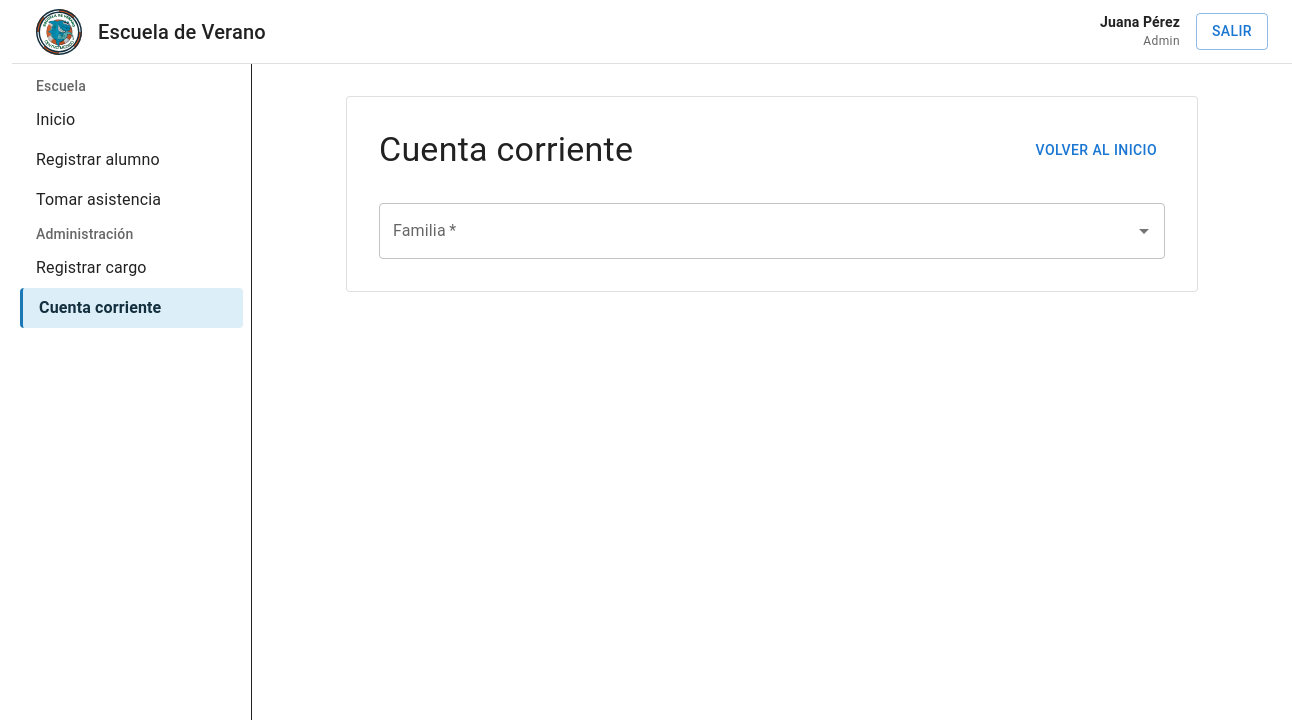
Test: Moverse desde el menú › De la cuenta corriente a registrar un cargo
The image size is (1292, 720).
Expected: the text "Juana Pérez" is shown, [1100,12,1180,32]
Click the link "Registrar cargo".
click(91, 268)  # box [36,258,147,277]
(page scrolled)
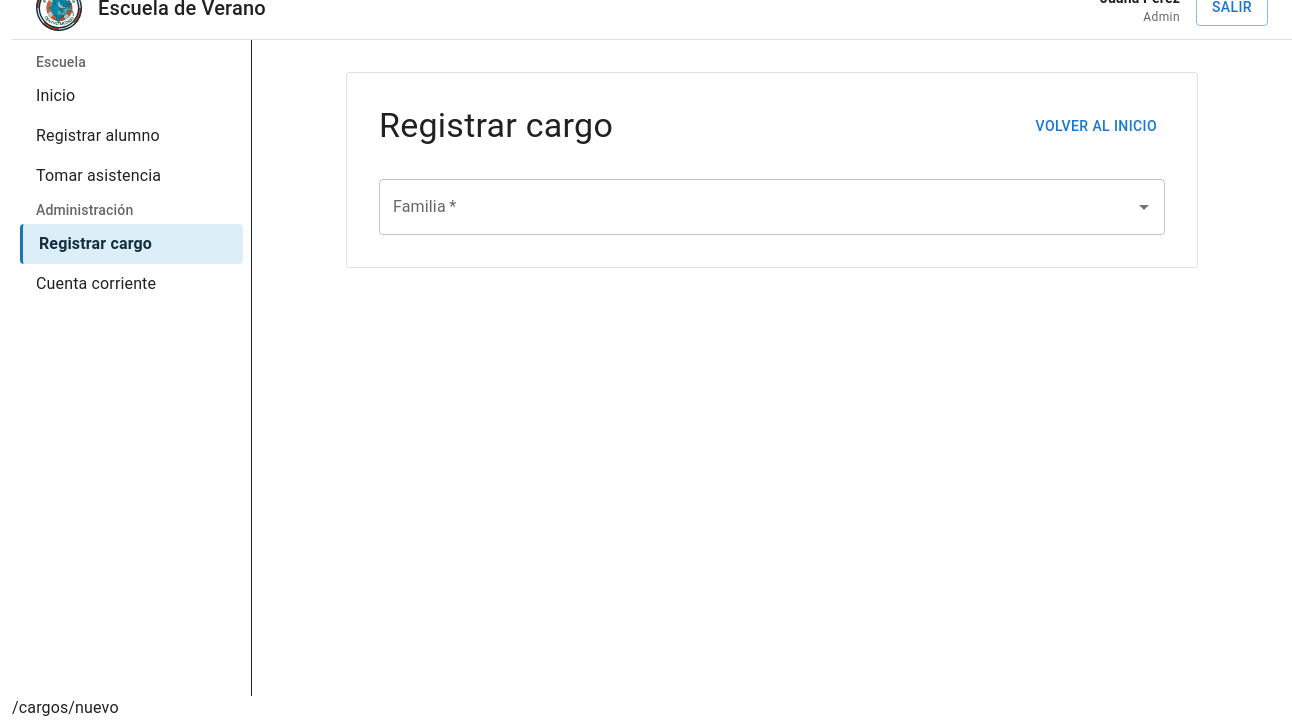
Expected: the text named "dirección actual" reads "/cargos/nuevo", [12,698,119,717]
